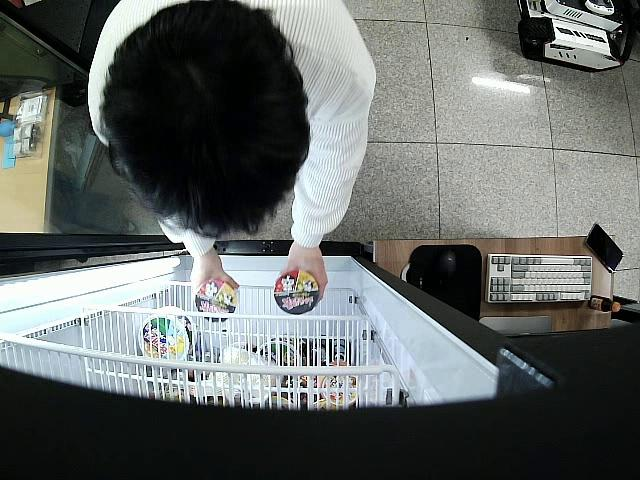00_hand: (277, 248, 329, 305), (190, 267, 241, 300)
08_buldak_S: (273, 271, 322, 315), (194, 281, 239, 323)
